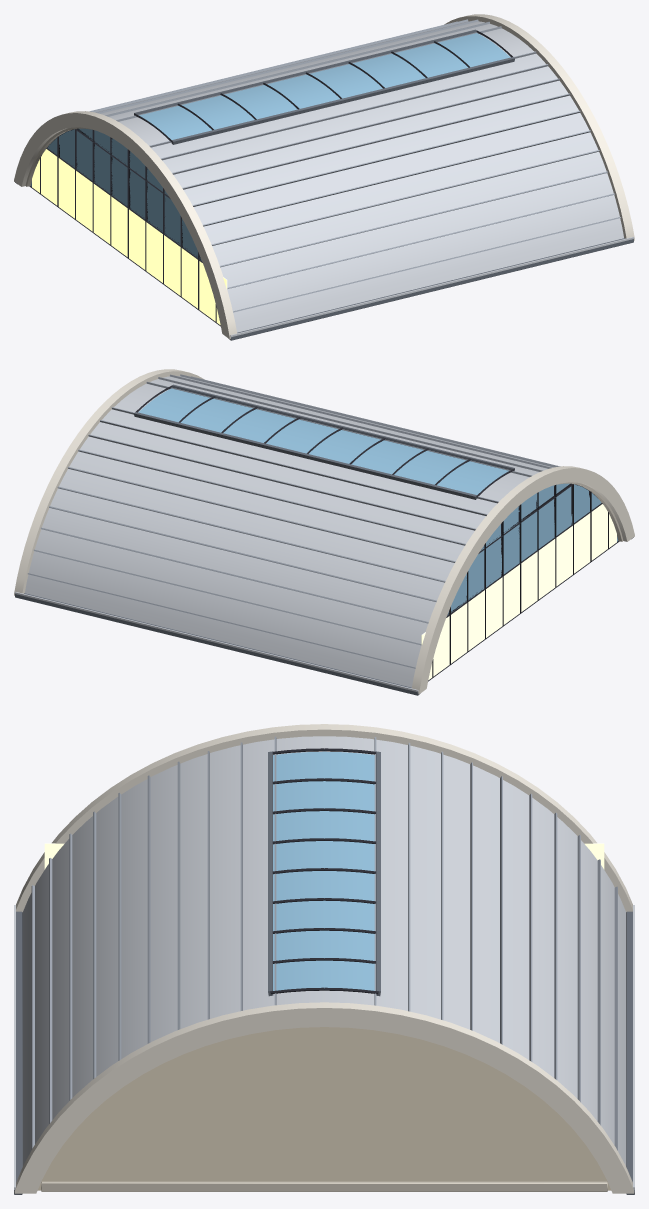
The model's file is lib_vault.glb.
The picture shows the model from 3 angles, top to bottom: view 1: azimuth 30°, elevation 25°; view 2: azimuth 150°, elevation 25°; view 3: azimuth 270°, elevation 25°; orthographic projection. The views are drawn at different scales.
Visible parts, largest first — view 1: vault; view 2: vault; view 3: vault.
Part boxes in pixels (x1,y1,x2,y2): vault: [14, 14, 634, 340]; vault: [14, 369, 634, 695]; vault: [14, 724, 634, 1194].
Size of the model in its own units: 20.4 by 6.3 by 18.86.
